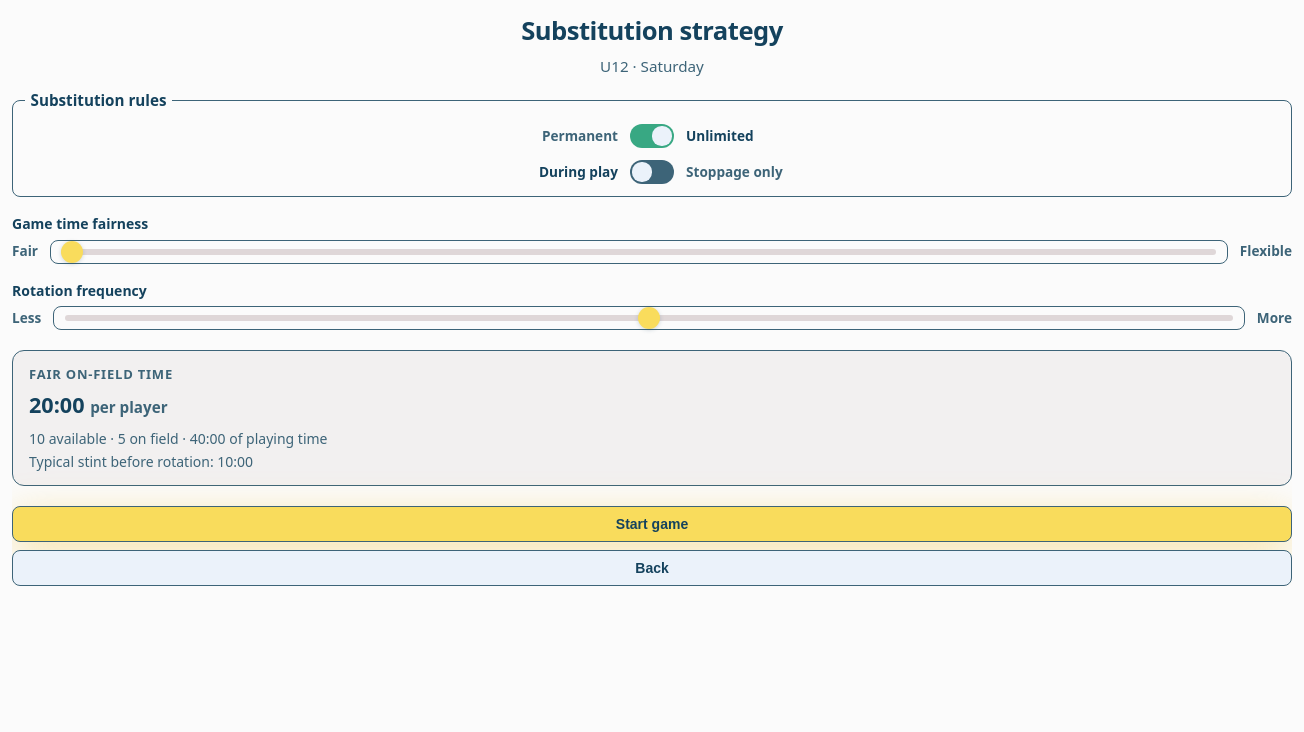
it: SubStrategyTargetSummary › hides stint target when unlimited returns is off
Check: the text "Typical stint before rotation: 10:00" is shown, box top-left (29, 452), bottom-right (253, 471)
Click the switch with test id "strategy-unlimited-returns" at (652, 136), box top-left (630, 124), bottom-right (674, 148)
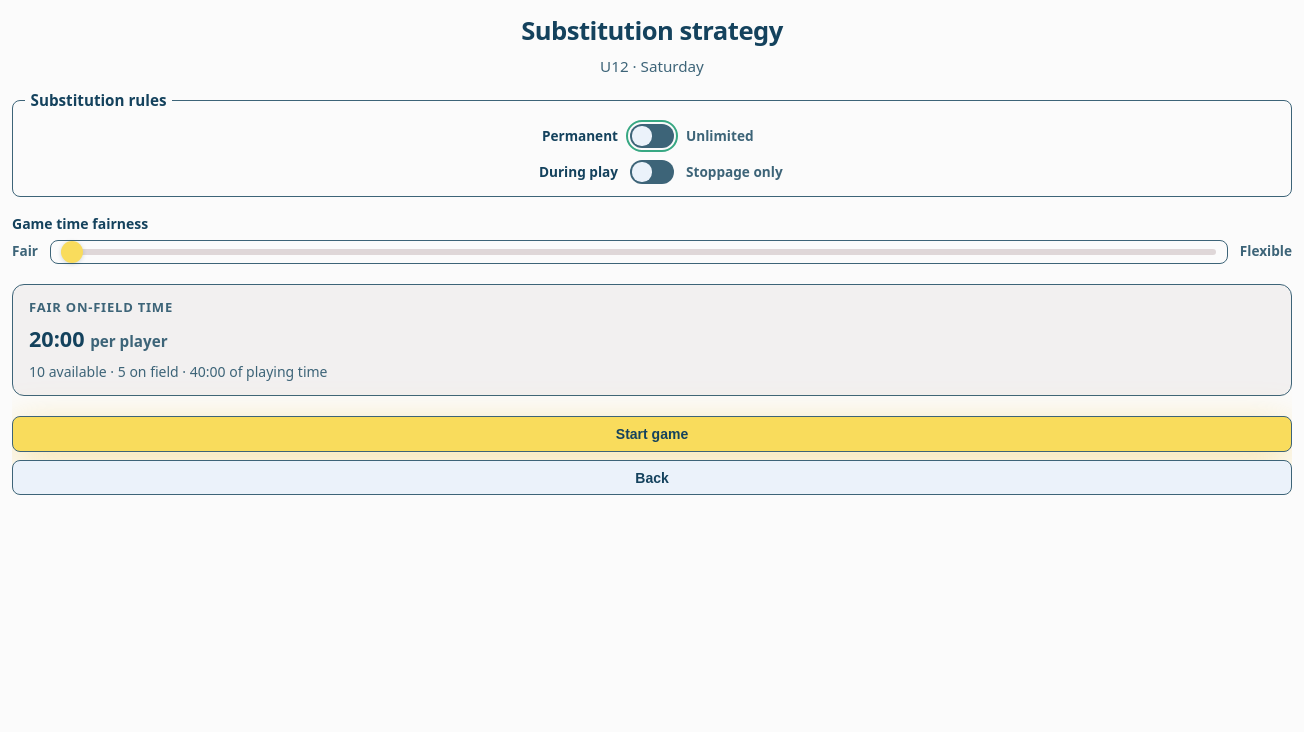
Check: the text with test id "sub-strategy-stint-target" is gone
